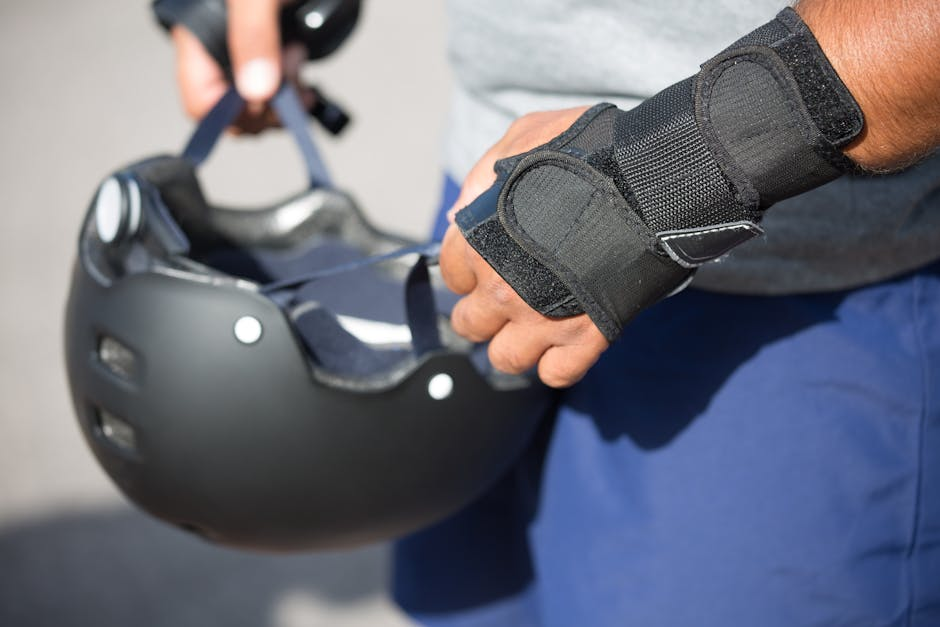safety_helmet: (60, 4, 560, 555), (61, 78, 560, 555), (61, 147, 559, 555)
